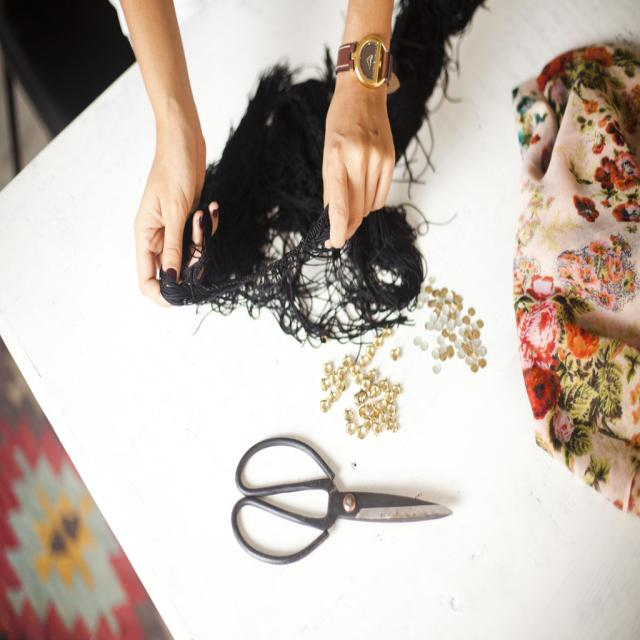scissors: (230, 436, 452, 565)
